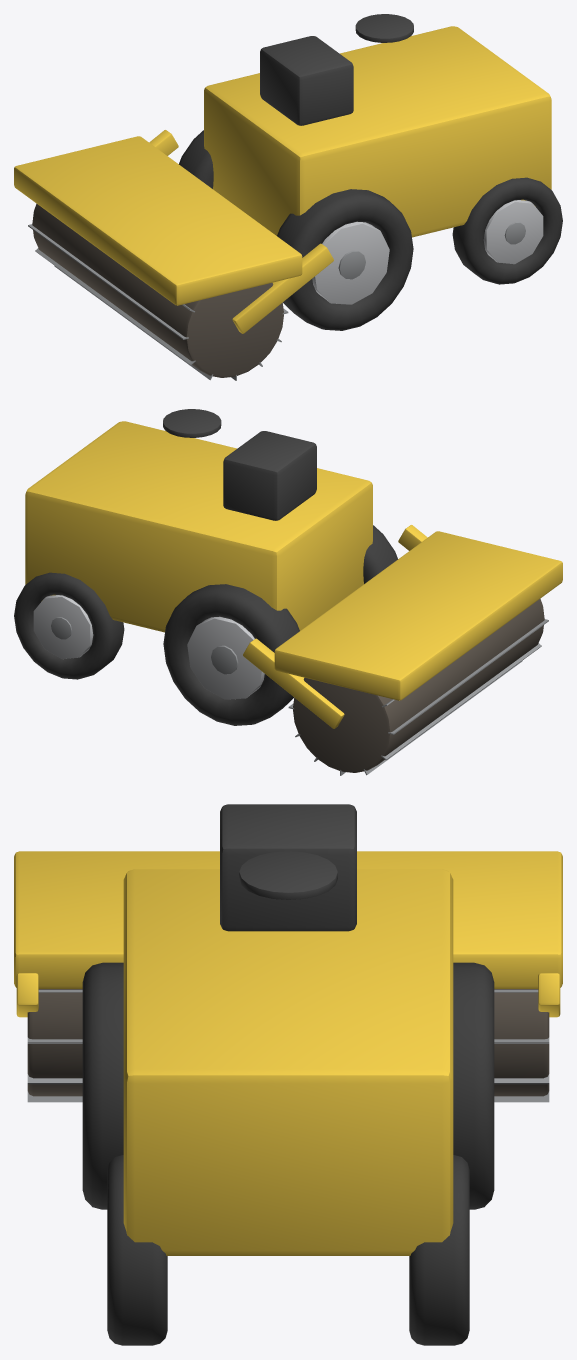
Rendered from EQP-ASF-004_anim.glb.
3 views of the same model, one above another, from view 1: azimuth 30°, elevation 25°; view 2: azimuth 150°, elevation 25°; view 3: azimuth 270°, elevation 25° (orthographic). The views are drawn at different scales.
Parts seen in each view (by area): view 1: EQP-ASF-004_anim5, EQP-ASF-004_anim4, EQP-ASF-004_anim2, EQP-ASF-004_anim0, EQP-ASF-004_anim3; view 2: EQP-ASF-004_anim5, EQP-ASF-004_anim4, EQP-ASF-004_anim3, EQP-ASF-004_anim1, EQP-ASF-004_anim2; view 3: EQP-ASF-004_anim5, EQP-ASF-004_anim4, EQP-ASF-004_anim2, EQP-ASF-004_anim3, EQP-ASF-004_anim0, EQP-ASF-004_anim1.
Part boxes in pixels (left/top/right/bottom): EQP-ASF-004_anim5: left=149, top=14, right=551, bottom=333; EQP-ASF-004_anim4: left=14, top=136, right=302, bottom=380; EQP-ASF-004_anim2: left=277, top=189, right=413, bottom=330; EQP-ASF-004_anim0: left=452, top=177, right=562, bottom=284; EQP-ASF-004_anim3: left=179, top=130, right=213, bottom=188; EQP-ASF-004_anim5: left=25, top=409, right=427, bottom=728; EQP-ASF-004_anim4: left=274, top=531, right=562, bottom=775; EQP-ASF-004_anim3: left=163, top=584, right=299, bottom=725; EQP-ASF-004_anim1: left=14, top=572, right=124, bottom=679; EQP-ASF-004_anim2: left=363, top=525, right=397, bottom=583; EQP-ASF-004_anim5: left=16, top=804, right=560, bottom=1255; EQP-ASF-004_anim4: left=14, top=851, right=562, bottom=1102; EQP-ASF-004_anim2: left=82, top=962, right=123, bottom=1209; EQP-ASF-004_anim3: left=453, top=962, right=494, bottom=1209; EQP-ASF-004_anim0: left=107, top=1155, right=167, bottom=1345; EQP-ASF-004_anim1: left=409, top=1155, right=469, bottom=1345.
Size of the model in its own units: 2.95 by 1.64 by 2.
